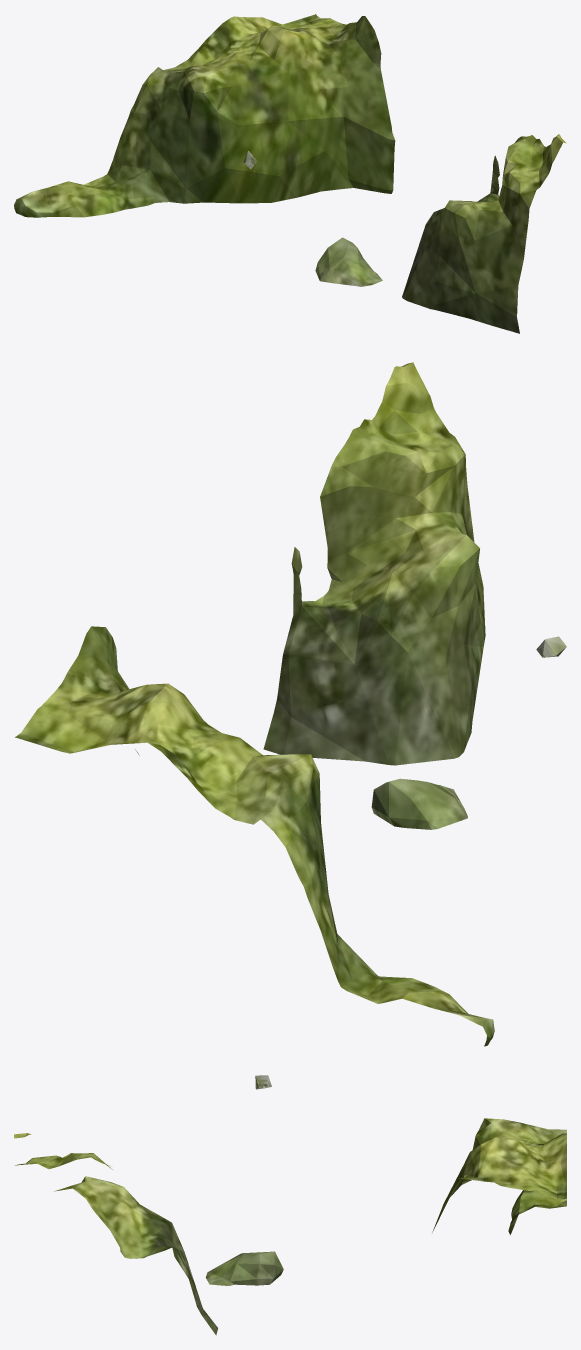
3 renders of one model, top to bottom at view 1: azimuth 30°, elevation 25°; view 2: azimuth 150°, elevation 25°; view 3: azimuth 270°, elevation 25°, orthographic. The views are drawn at different scales.
Size of the model in its own units: 2.05 by 1.18 by 2.95.
Materials: 1 (1 with a texture image).
